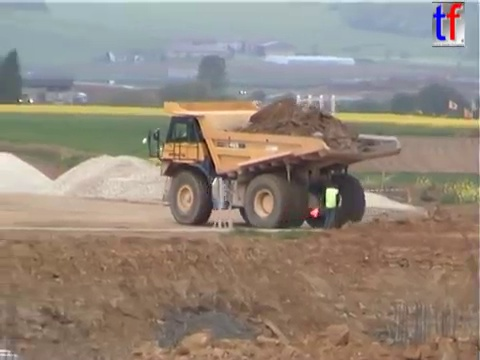truck: (139, 96, 404, 232)
worker: (316, 179, 343, 232)
